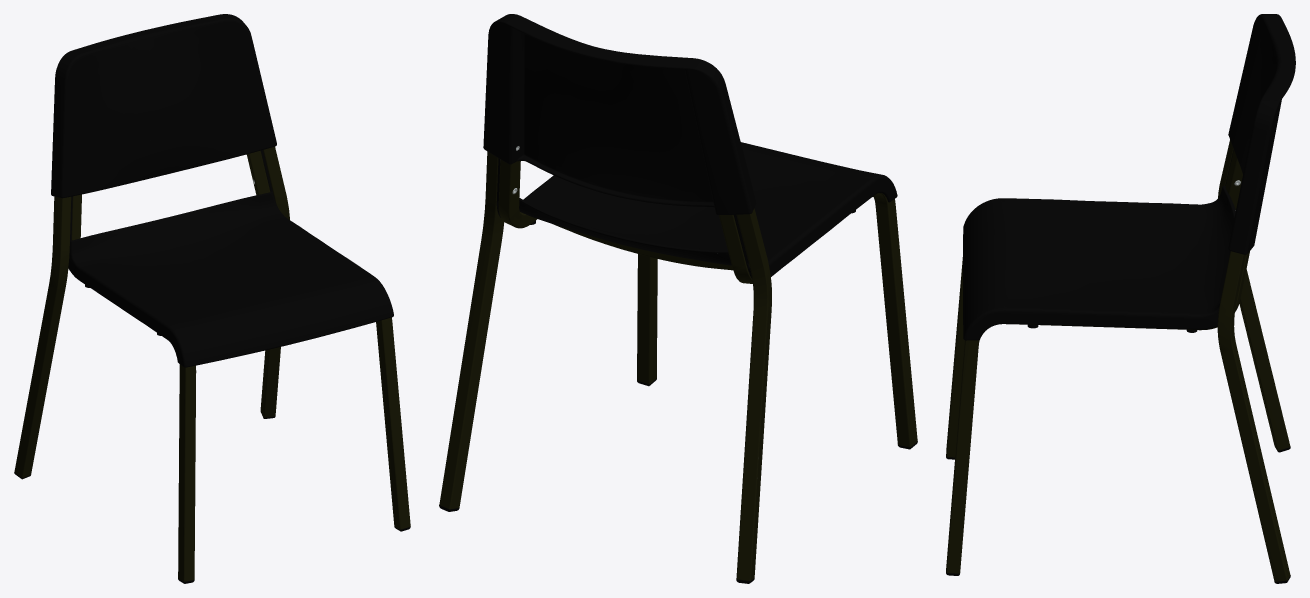
File: 19 - TEODORES Chair - black.glb
3 views of the same model, side by side, from view 1: azimuth 30°, elevation 25°; view 2: azimuth 150°, elevation 25°; view 3: azimuth 270°, elevation 25° (orthographic). The views are drawn at different scales.
Parts seen in each view (by area): view 1: model; view 2: model; view 3: model.
Boxes of the visible parts, box(x1,y1,x2,y2) form: model: box(14, 14, 410, 583); model: box(439, 14, 917, 583); model: box(946, 14, 1295, 583).
Bounding box in the file's own units: 0.5177 × 0.7976 × 0.5493.
Materials: 1 (1 with a texture image).
